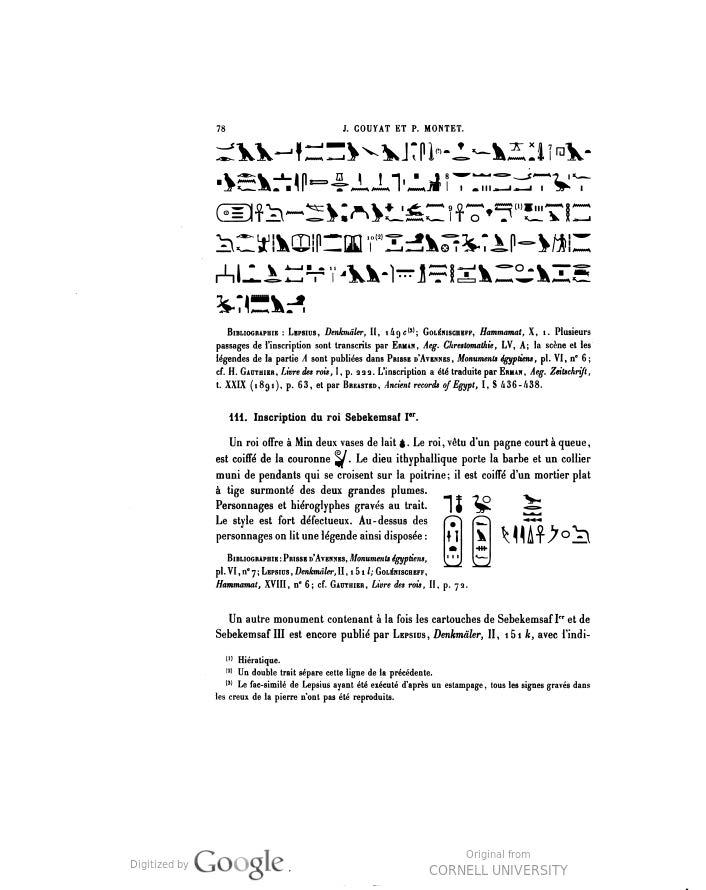circle: (215, 189, 267, 232), (465, 510, 497, 578), (438, 506, 464, 576)
